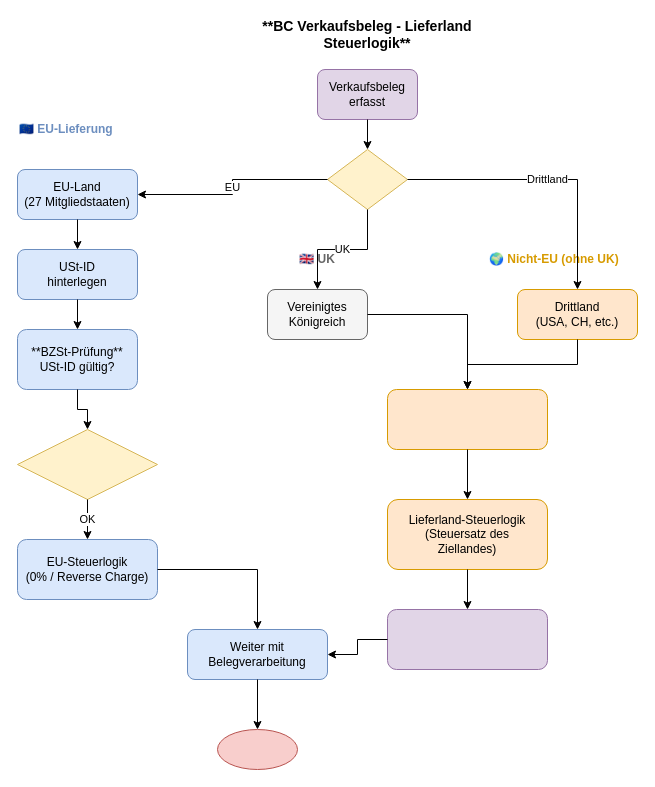
This 655x787 diagram has some shape labels left out. The shapes that lost their labels are listed below. From the top down, each one's centre as x and y in pixels, then its label:
At [367,179]: "Lieferland?".
At [467,419]: "**KEINE BZSt-Prüfung** (keine USt-ID-Validierung)".
At [87,464]: "**Plausibilität prüfen** USt-ID ↔ Lieferland (MANUELL)".
At [467,639]: "**Steuereinrichtung** steuert Verarbeitung".
At [257,749]: "Beleg gebucht".
